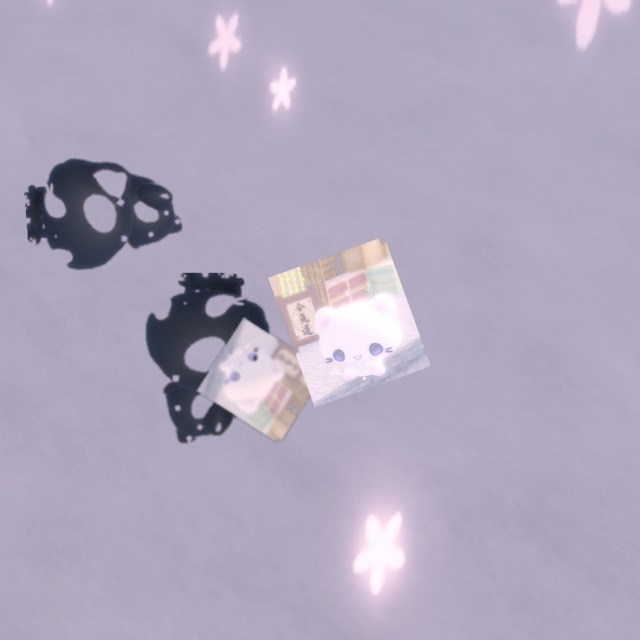urso_branco: (268, 236, 431, 408), (196, 317, 327, 444)
urso_preto: (131, 271, 276, 457), (21, 145, 197, 285)
